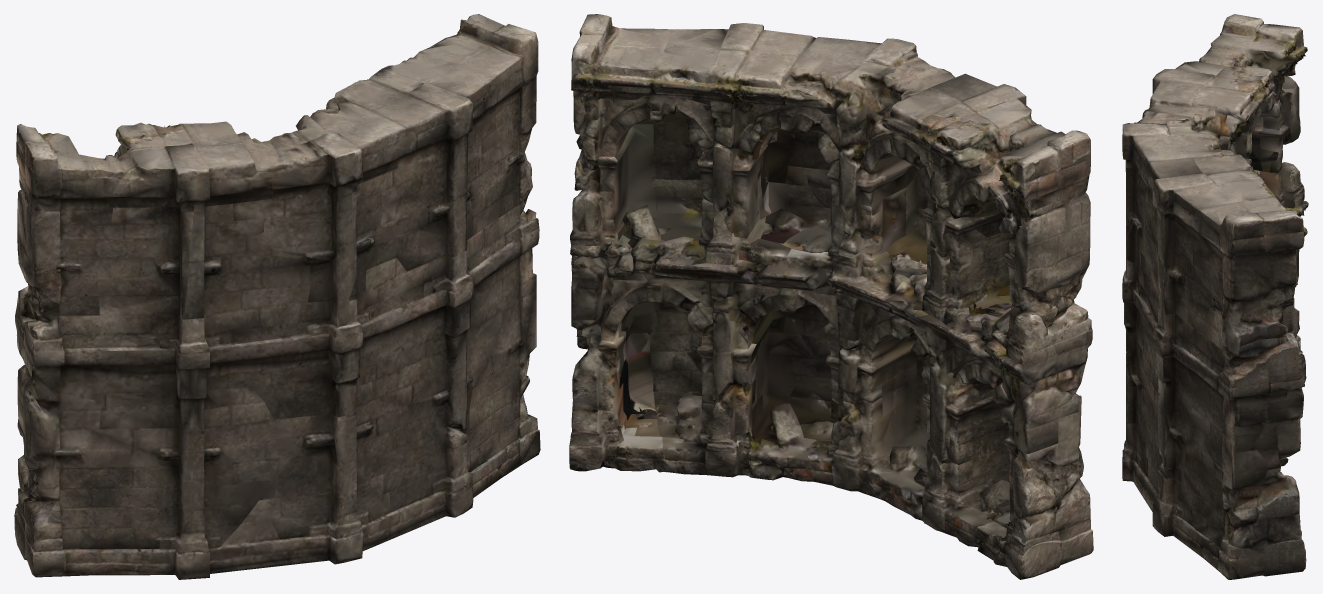
Rendered from Dungeon_wall_low.glb.
The picture shows the model from 3 angles, left to right: view 1: azimuth 30°, elevation 25°; view 2: azimuth 150°, elevation 25°; view 3: azimuth 270°, elevation 25°; orthographic projection. The views are drawn at different scales.
Parts seen in each view (by area): view 1: YVO3D.obj; view 2: YVO3D.obj; view 3: YVO3D.obj.
Part boxes in pixels (x1=…): YVO3D.obj: x1=14, y1=14, x2=540, y2=579; YVO3D.obj: x1=569, y1=14, x2=1093, y2=579; YVO3D.obj: x1=1122, y1=14, x2=1308, y2=579.
Bounding box in the file's own units: 0.9796 × 0.7779 × 0.3663.
Materials: 1 (1 with a texture image).
